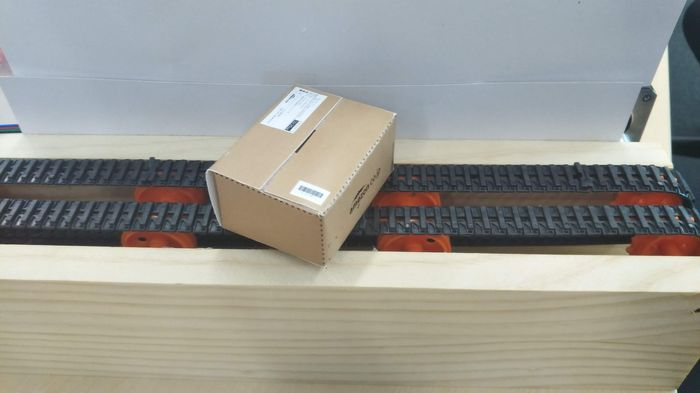box1: (204, 83, 397, 268)
